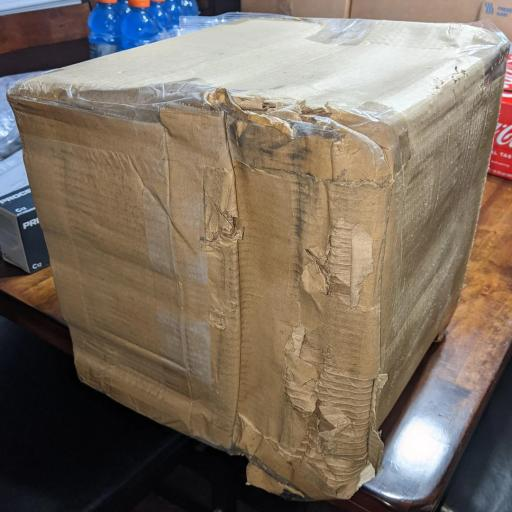torn: (162, 98, 373, 476)
